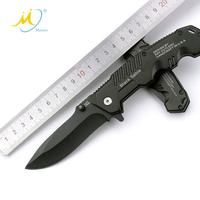knife: (20, 25, 197, 171)
